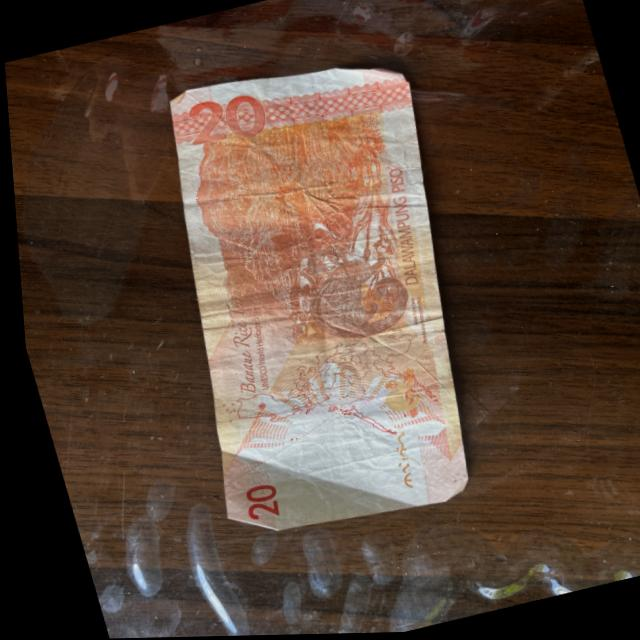20_civet: (291, 222, 408, 351)
20_civet_watermark: (367, 371, 422, 420)
